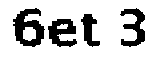3: (117, 5, 149, 52)
6: (7, 4, 46, 51)
e: (46, 17, 78, 50)
t: (79, 11, 114, 57)
